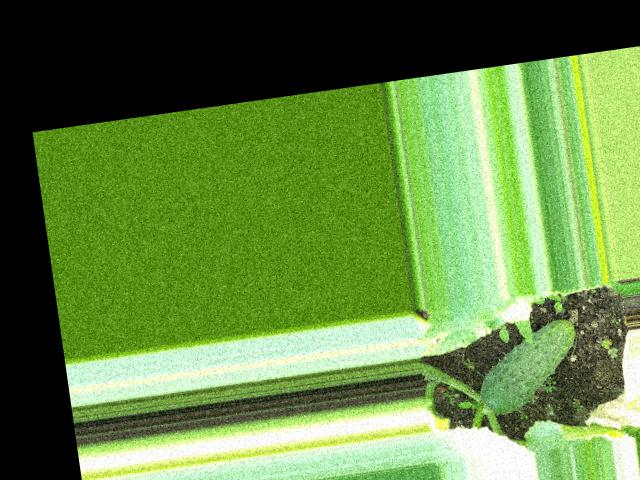cucumber: (470, 317, 585, 417)
